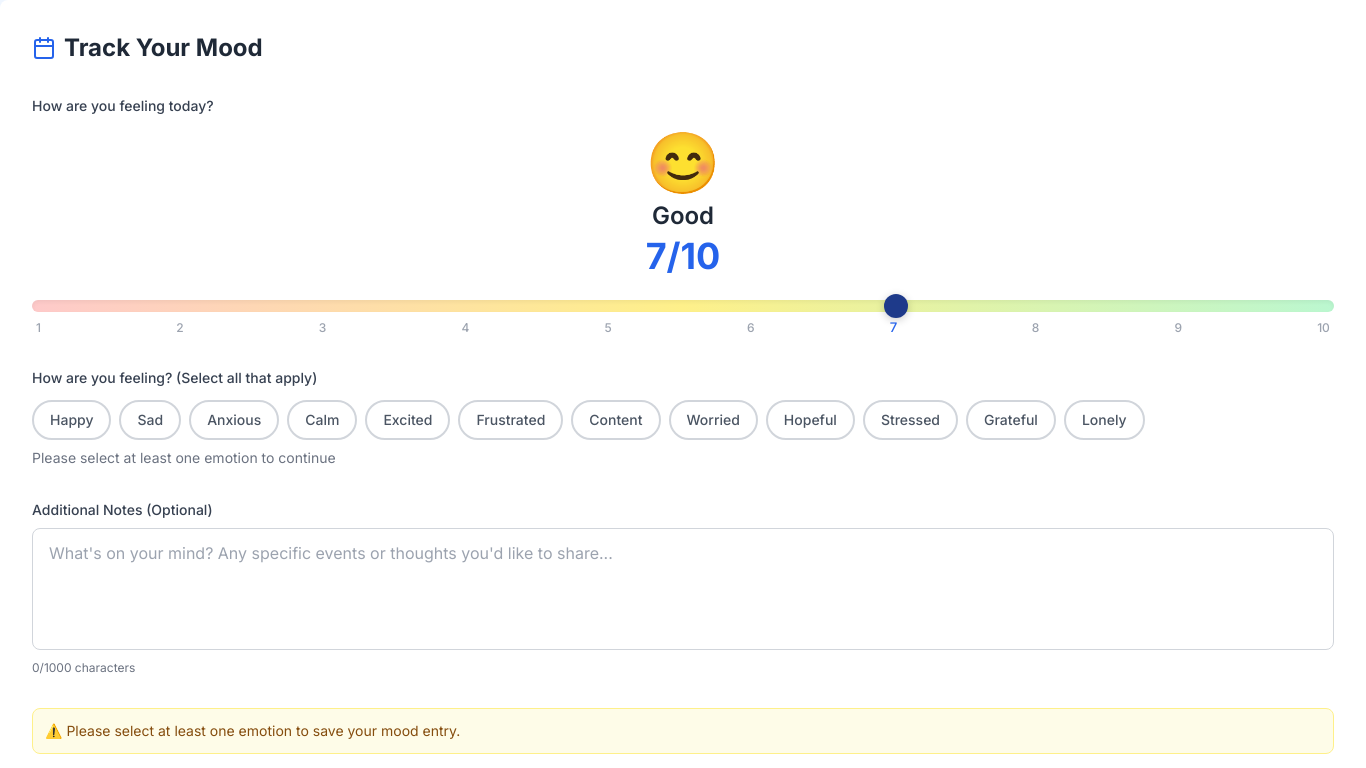
Test: ClientView Component › allows changing mood score
Set the slider to "9" at coordinates (1183, 306), box [32, 300, 1334, 312]
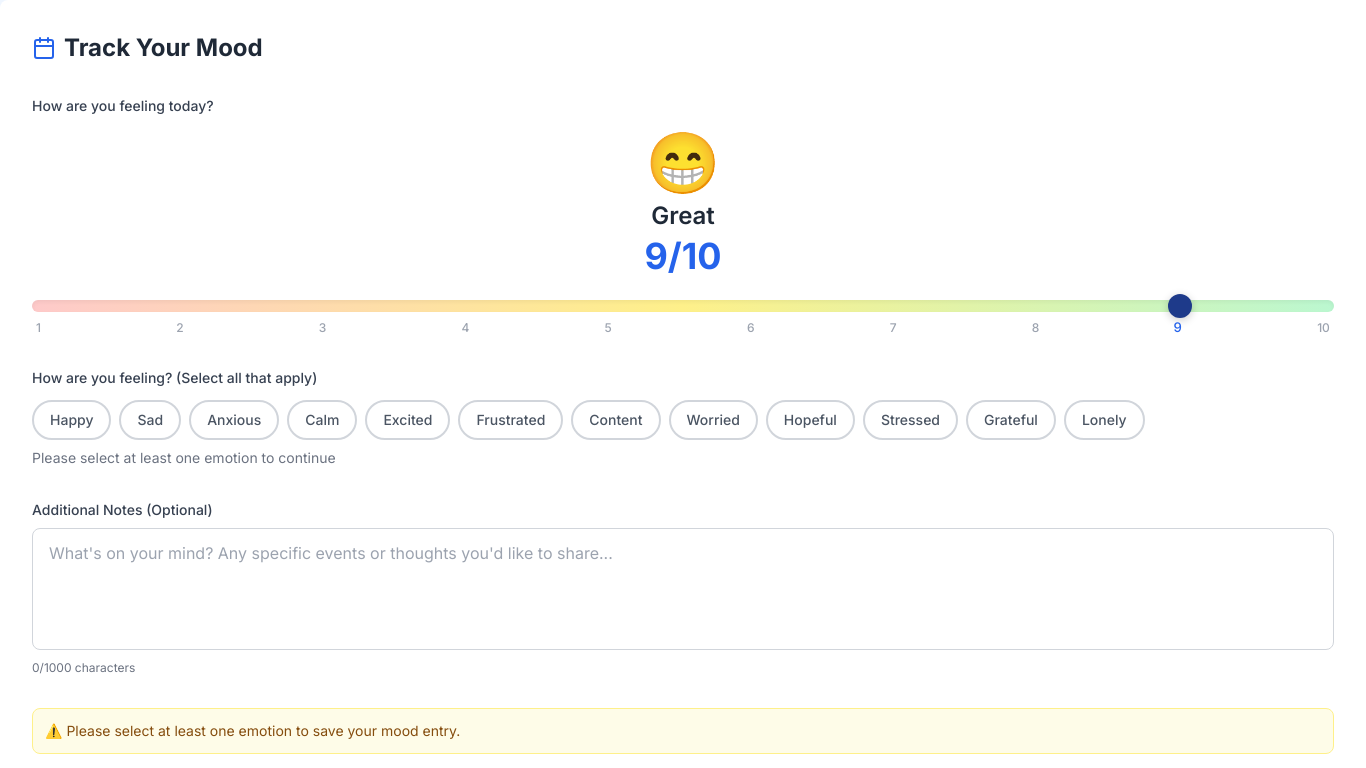
Result: the text "9/10" is shown at [644, 234, 722, 278]
Result: the text "Great" is shown at [651, 201, 715, 230]
